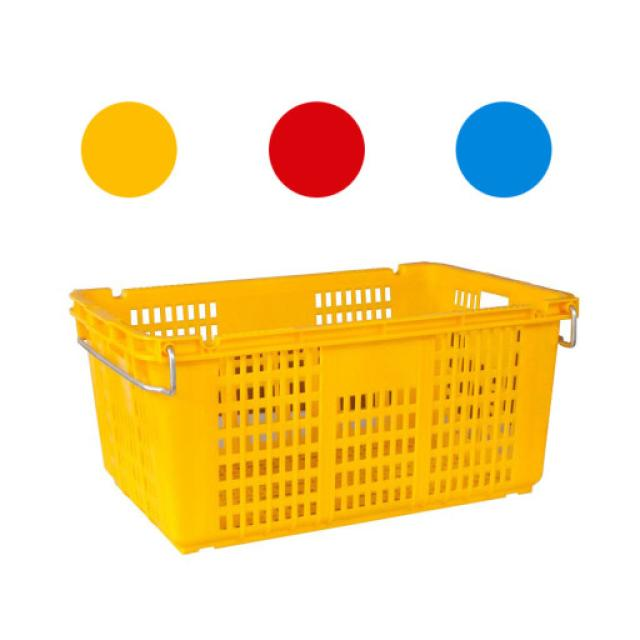basket: (68, 224, 607, 565)
